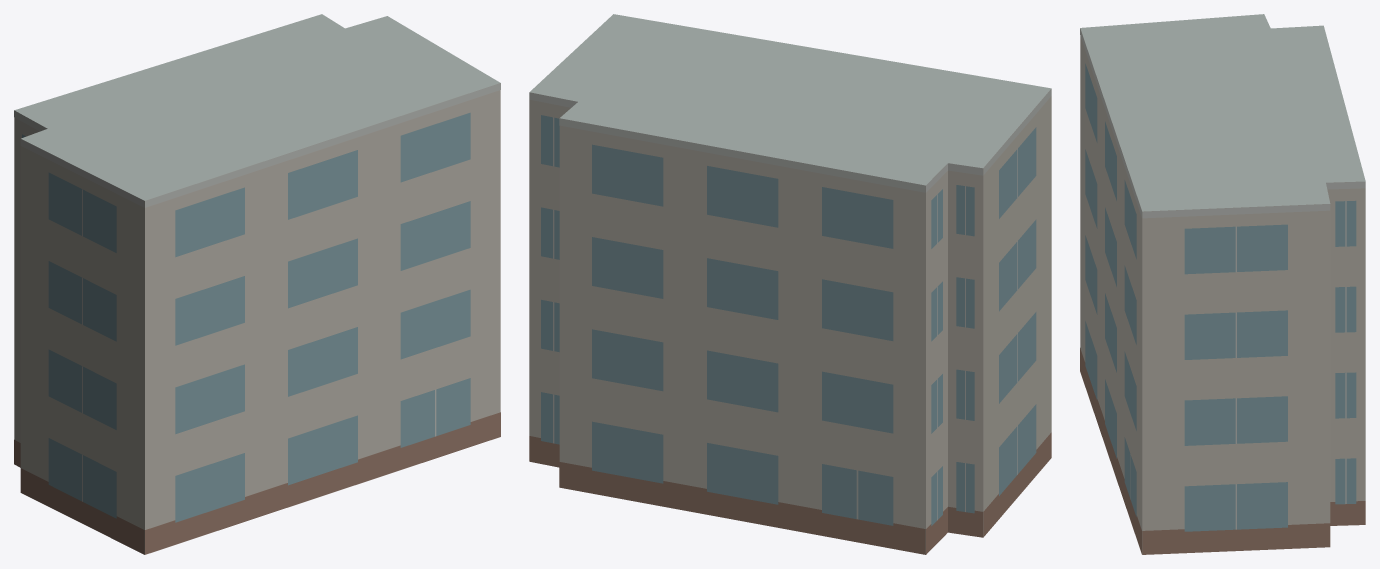
The model's file is survey-upis-32718687.glb.
3 views of the same model, side by side, from view 1: azimuth 30°, elevation 25°; view 2: azimuth 150°, elevation 25°; view 3: azimuth 270°, elevation 25° (orthographic). The views are drawn at different scales.
Visible parts, largest first — view 1: survey-upis-32718687.tmp; view 2: survey-upis-32718687.tmp; view 3: survey-upis-32718687.tmp.
Part boxes in pixels (<box>): survey-upis-32718687.tmp: <box>14,14,500,554</box>; survey-upis-32718687.tmp: <box>529,14,1051,554</box>; survey-upis-32718687.tmp: <box>1080,14,1365,554</box>.
Bounding box in the file's own units: 15.06 × 12.2 × 9.21.
